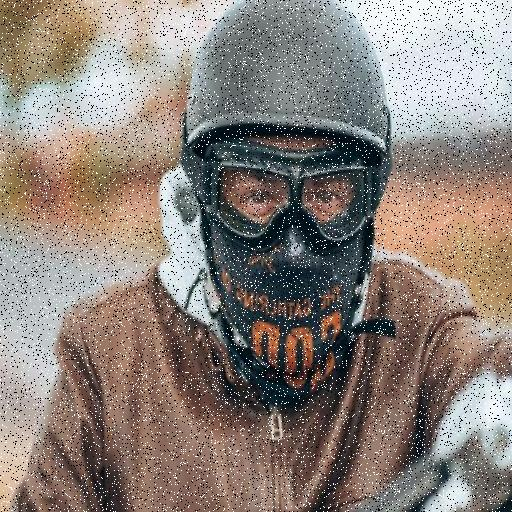Helmet: (181, 0, 393, 403), (182, 0, 391, 211)
